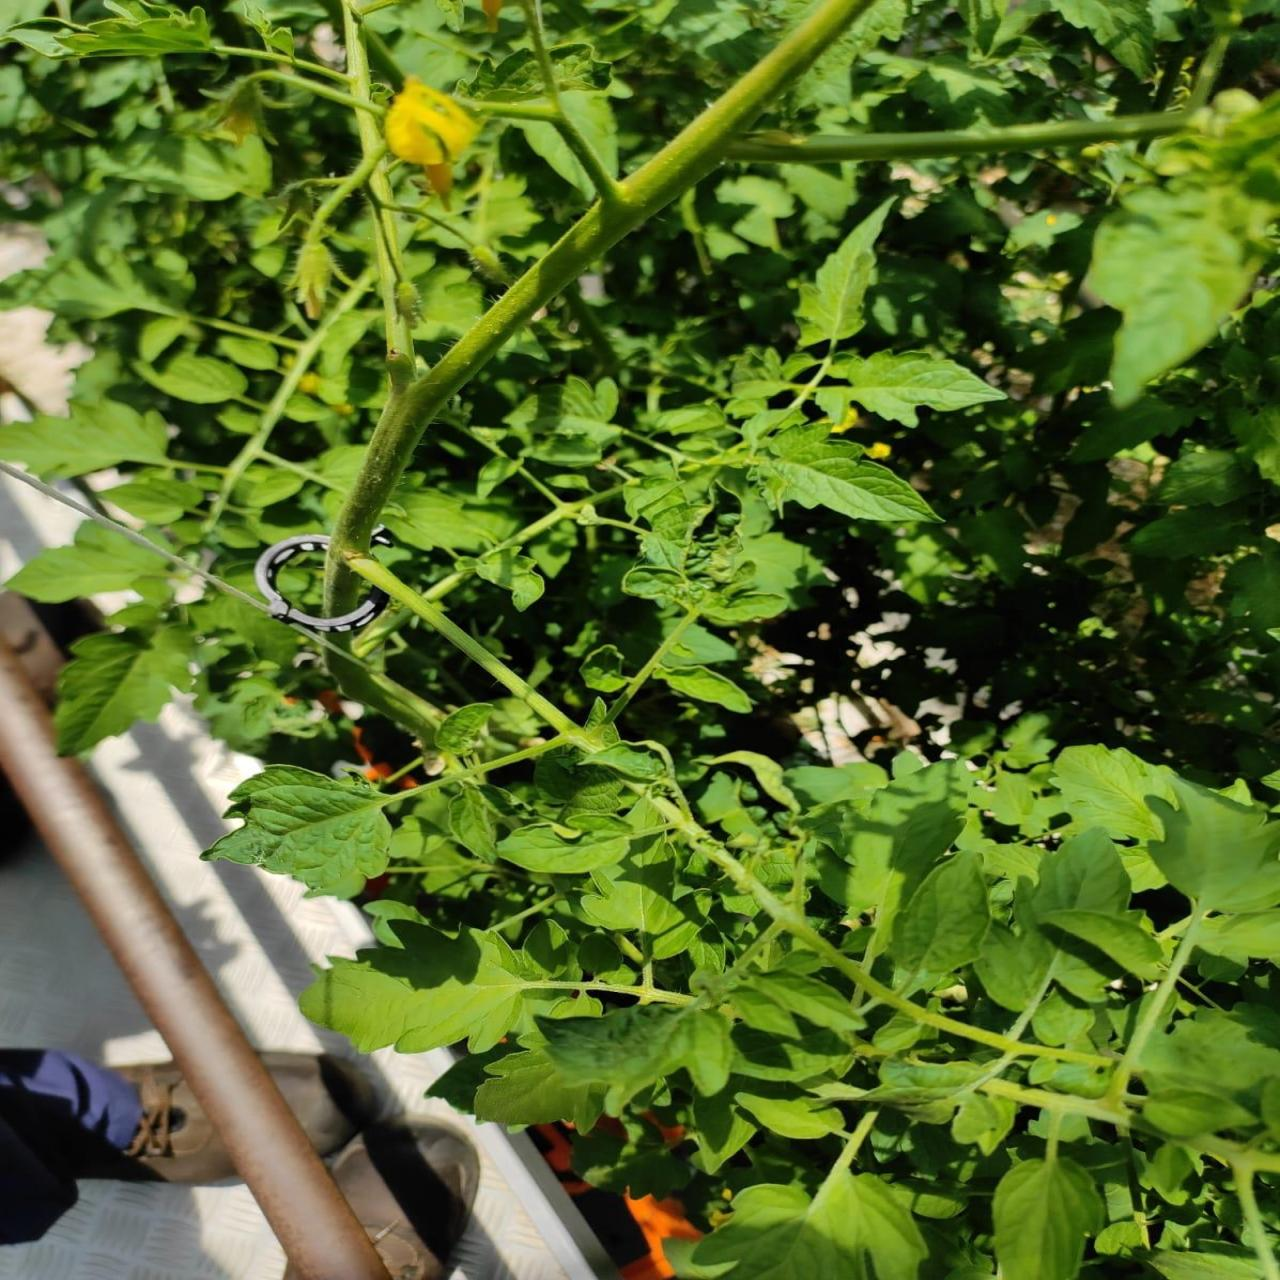T_L_H: (775, 200, 1005, 425), (300, 922, 524, 1053), (203, 767, 392, 887), (760, 411, 939, 520), (54, 629, 189, 753), (993, 1159, 1104, 1280), (890, 855, 990, 974)
T_S_H: (324, 8, 865, 577), (860, 981, 1070, 1058)
